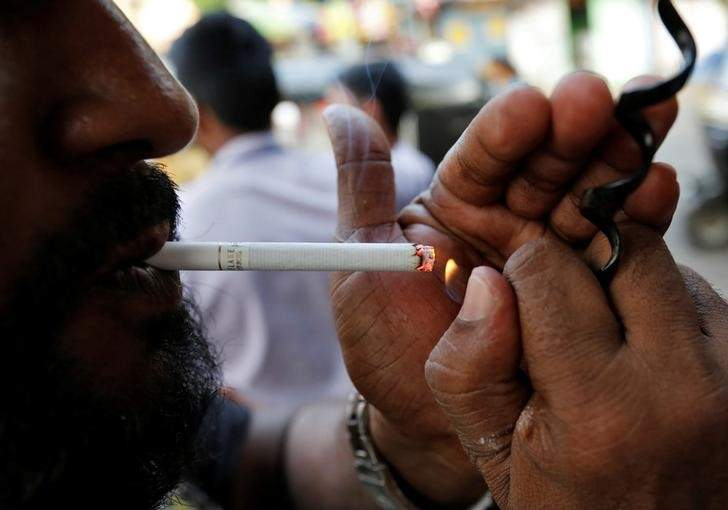cigarette: (142, 220, 442, 300)
